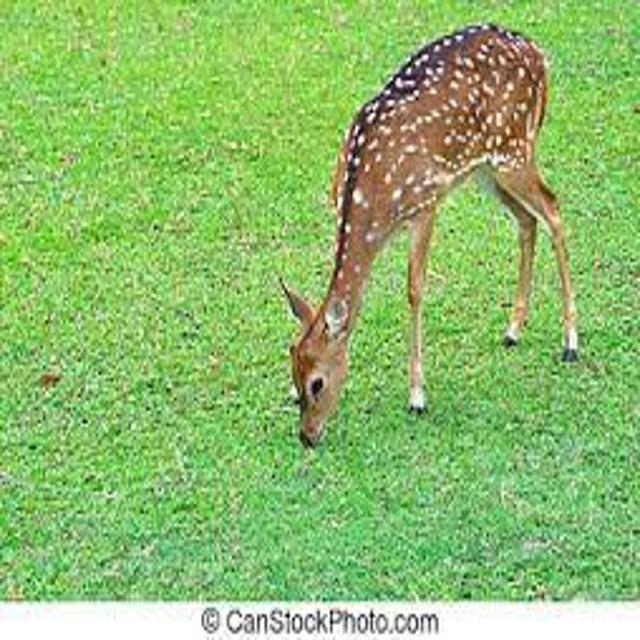deer: (249, 9, 604, 484)
